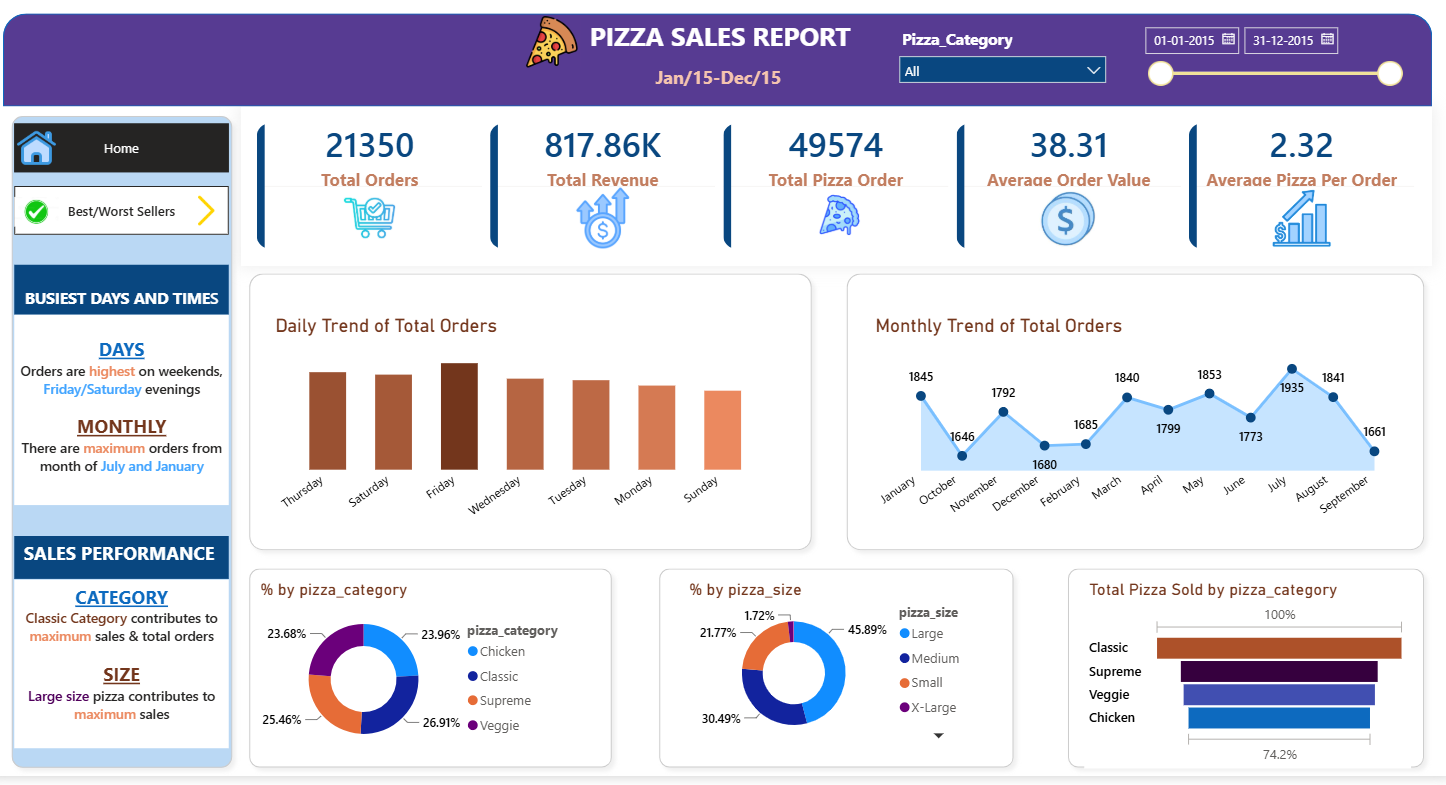

Layout of this report page (visuals, bound fields, positions):
{"tool":"powerbi","page":{"name":"Home","canvas":[1500,800],"ordinal":0},"visuals":[{"type":"cardVisual","fields":{"Data":["pizza_sales.Total Orders","pizza_sales.Total Revenue","pizza_sales.Total Pizza Order","pizza_sales.Average Order Value","pizza_sales.Average Pizza Per Order"]},"box":[259.3,113.6,1222,162.7],"z":0},{"type":"shape","box":[15.9,18.2,1465.9,95.5],"z":1000},{"type":"textbox","box":[609.1,18.2,284.1,54.5],"z":2000},{"type":"textbox","box":[679.5,65.9,143.2,36.4],"z":3000},{"type":"shape","title":"Daily trend of Total ","box":[259.3,276.3,594.9,301.7],"z":4000},{"type":"columnChart","title":" Daily Trend of Total Orders","fields":{"Category":["pizza_sales.Day Name"],"Y":["pizza_sales.Total Orders"]},"box":[289.8,327.1,516.9,227.1],"z":5000},{"type":"shape","box":[871.2,276.3,610.2,301.7],"z":6000},{"type":"areaChart","title":"Monthly Trend of Total Orders","fields":{"Category":["pizza_sales.Month Name"],"Y":["pizza_sales.Total Orders"]},"box":[905.1,327.1,539,227.1],"z":7000},{"type":"shape","title":"Daily trend of Total ","box":[259.3,578,389.8,222],"z":8000},{"type":"shape","title":"Daily trend of Total ","box":[679.7,578,381.4,222],"z":9000},{"type":"shape","title":"Daily trend of Total ","box":[1098.3,578,383.1,222],"z":10000},{"type":"donutChart","title":"% by pizza_category","fields":{"Series":["pizza_sales.pizza_category"],"Y":["pizza_sales.Total Revenue"]},"box":[274.6,598.3,322,184.7],"z":11000},{"type":"donutChart","title":"% by pizza_size","fields":{"Y":["pizza_sales.Total Revenue"],"Series":["pizza_sales.pizza_size"]},"box":[713.6,598.3,305.1,172.9],"z":12000},{"type":"image","box":[549.2,20.3,59.3,52.5],"z":13000},{"type":"shape","title":"Daily trend of Total ","box":[15.3,113.6,244.1,686.4],"z":14000},{"type":"funnel","title":"Total Pizza Sold by pizza_category","fields":{"Category":["pizza_sales.pizza_category"],"Y":["pizza_sales.Total Pizza Order"]},"box":[1123.7,598.3,335.6,193.2],"z":15000},{"type":"textbox","box":[27.1,276.3,220.3,50.8],"z":16000},{"type":"textbox","box":[27.1,327.1,220.3,194.9],"z":17000},{"type":"textbox","box":[27.1,554.2,220.3,44.1],"z":18000},{"type":"textbox","box":[27.1,598.3,220.3,172.9],"z":19000},{"type":"slicer","fields":{"Values":["pizza_sales.pizza_category"]},"box":[923.7,28.8,232.2,81.4],"z":20000},{"type":"slicer","fields":{"Values":["pizza_sales.order_date"]},"box":[1174.6,22,284.7,88.1],"z":21000},{"type":"pageNavigator","box":[27.1,130.5,220.3,50.8],"z":22000},{"type":"pageNavigator","box":[27.1,194.9,220.3,50.8],"z":23000},{"type":"image","box":[27.1,130.5,45.8,50.8],"z":24000},{"type":"image","box":[27.1,194.9,45.8,52.5],"z":25000},{"type":"image","box":[198.3,194.9,49.2,50.8],"z":26000}]}

Visuals, with their boxes in screenshot pixels (x1, y1, x2, y2), scaled from the page's 1500x800 canvas onto the 1446x785 screenshot:
cardVisual - pizza_sales.Total Orders x pizza_sales.Total Revenue: 250 111 1428 271
shape: 15 18 1428 112
textbox: 587 18 861 71
textbox: 655 65 793 100
"Daily trend of Total " shape: 250 271 823 567
" Daily Trend of Total Orders" columnChart: 279 321 778 544
shape: 840 271 1428 567
"Monthly Trend of Total Orders" areaChart: 873 321 1392 544
"Daily trend of Total " shape: 250 567 626 784
"Daily trend of Total " shape: 655 567 1023 784
"Daily trend of Total " shape: 1059 567 1428 784
"% by pizza_category" donutChart: 265 587 575 768
"% by pizza_size" donutChart: 688 587 982 757
image: 529 20 587 71
"Daily trend of Total " shape: 15 111 250 784
"Total Pizza Sold by pizza_category" funnel: 1083 587 1407 777
textbox: 26 271 238 321
textbox: 26 321 238 512
textbox: 26 544 238 587
textbox: 26 587 238 757
slicer - pizza_sales.pizza_category: 890 28 1114 108
slicer - pizza_sales.order_date: 1132 22 1407 108
pageNavigator: 26 128 238 178
pageNavigator: 26 191 238 241
image: 26 128 70 178
image: 26 191 70 243
image: 191 191 239 241
